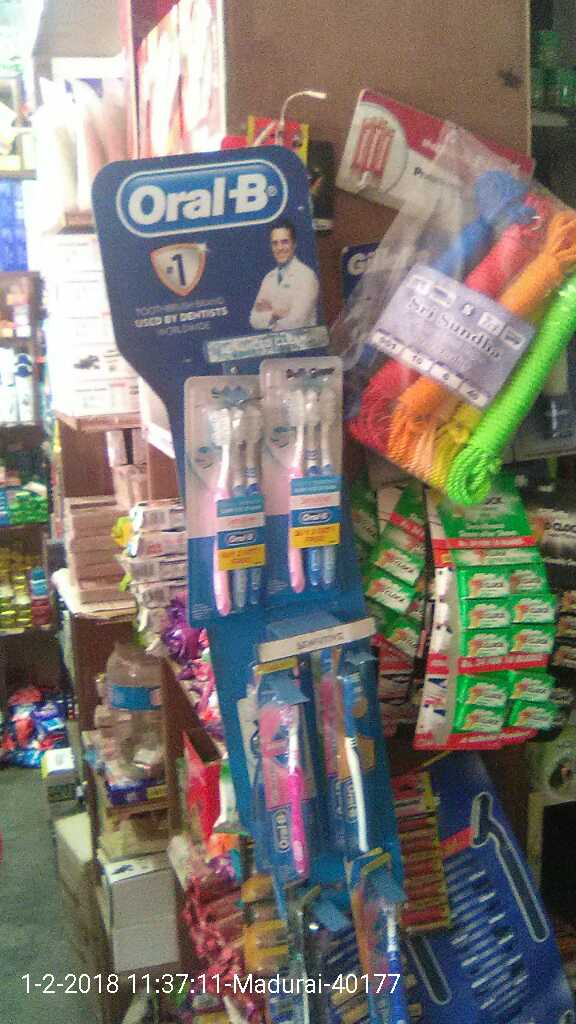oralb: (255, 365, 355, 591), (186, 383, 261, 614), (317, 669, 391, 849), (247, 670, 313, 870)
